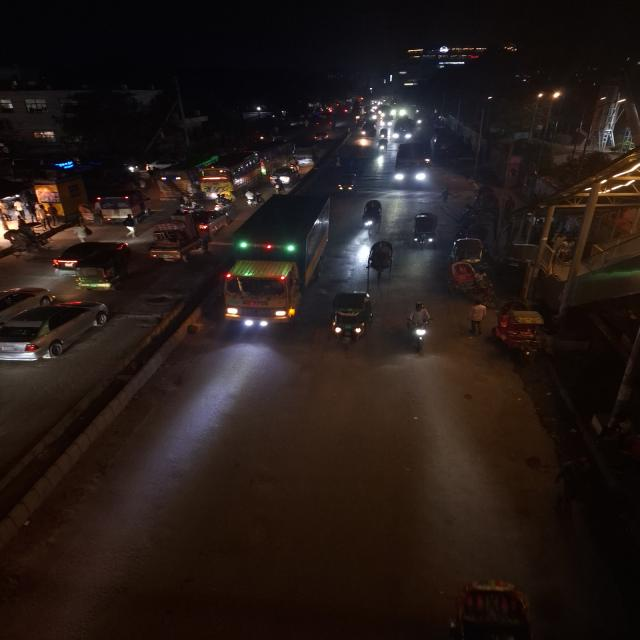bus: (200, 152, 263, 194), (392, 139, 434, 191), (393, 116, 415, 142)
car: (0, 296, 113, 365), (50, 240, 132, 274), (0, 282, 56, 322), (270, 167, 297, 185)
cng: (327, 290, 375, 348), (74, 251, 130, 291), (408, 209, 441, 251), (334, 172, 358, 196), (376, 136, 391, 154)
motorcycle: (404, 299, 434, 355), (2, 227, 50, 257), (213, 194, 236, 214), (243, 186, 263, 206)
pedestrian: (464, 300, 490, 338)
pickup_van: (145, 219, 210, 264)
rickshaw: (438, 572, 548, 640), (491, 298, 550, 362), (446, 259, 499, 305), (364, 238, 397, 278), (408, 210, 441, 250), (447, 235, 488, 267), (358, 198, 387, 236)
truck: (217, 190, 330, 330), (293, 143, 317, 166)
